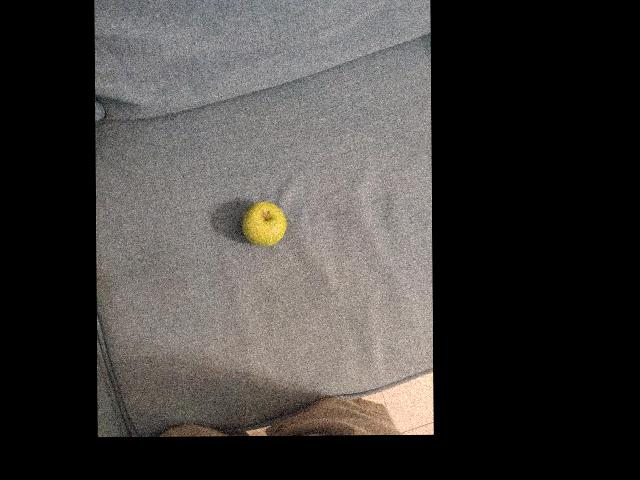apple: (239, 197, 290, 254)
